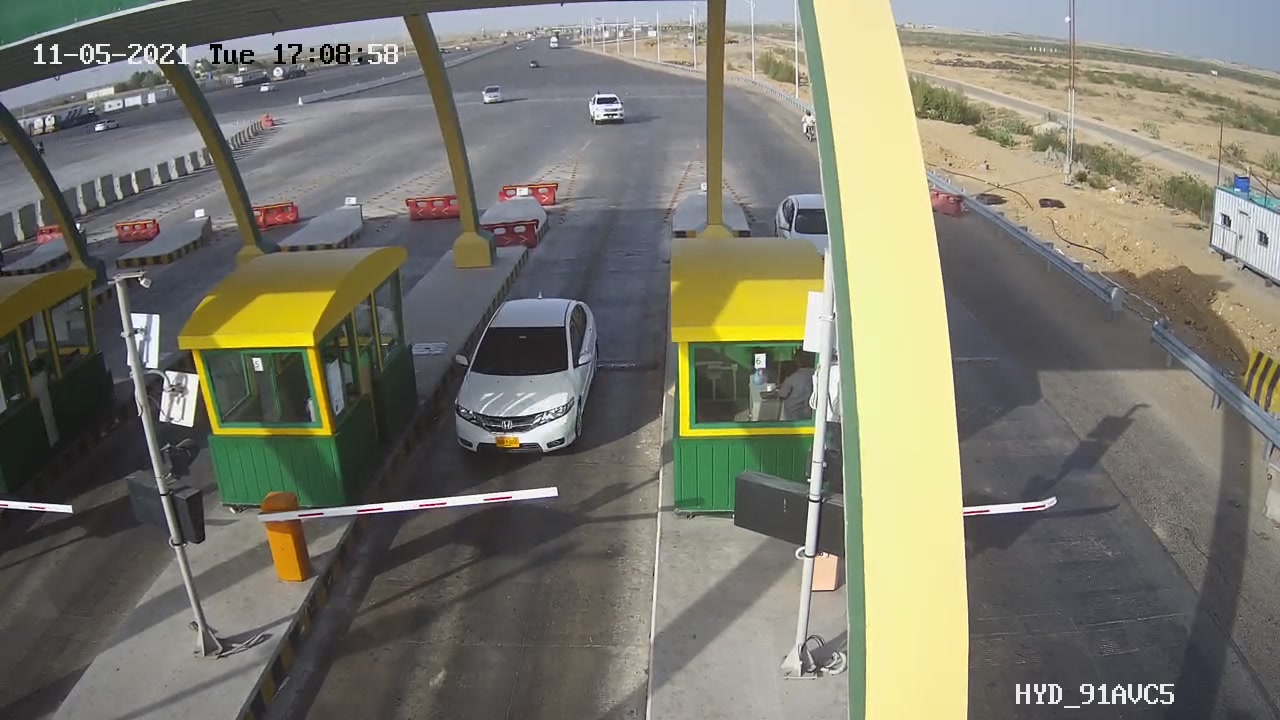F1: (433, 288, 618, 478)
